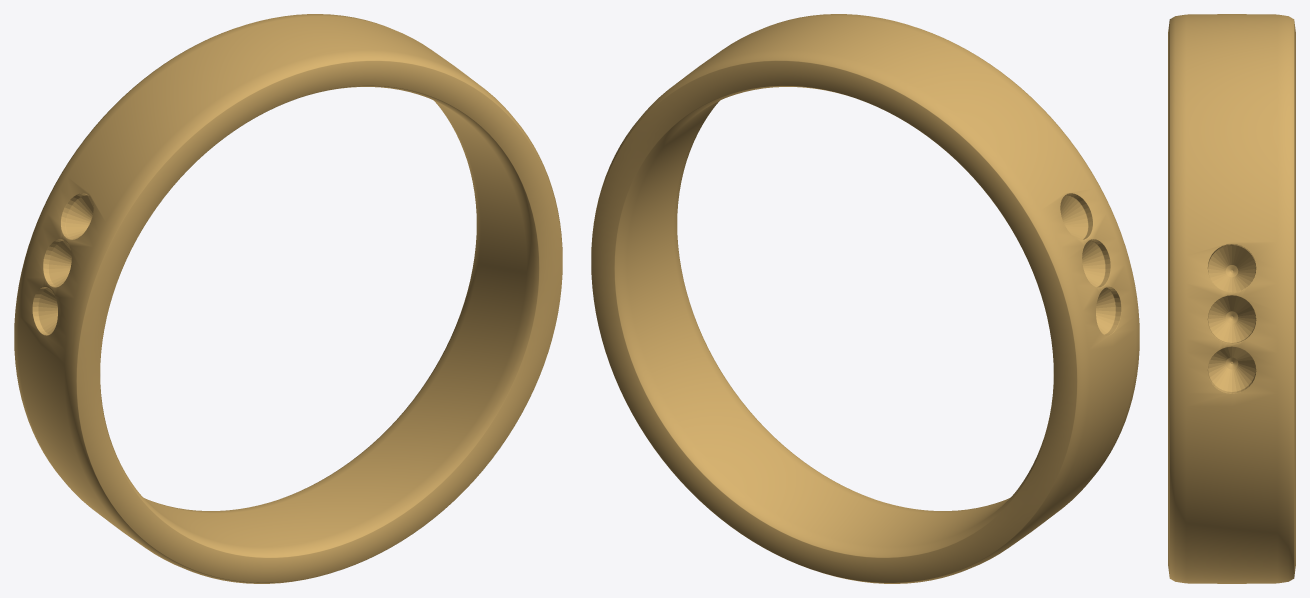
The model's file is wide-flush-accents-wide.glb.
The picture shows the model from 3 angles, left to right: view 1: azimuth 30°, elevation 25°; view 2: azimuth 150°, elevation 25°; view 3: azimuth 270°, elevation 25°; orthographic projection.
Parts seen in each view (by area): view 1: Band; view 2: Band; view 3: Band.
Part boxes in pixels (x1,y1,x2,y2): Band: (14,14,562,583); Band: (591,14,1139,583); Band: (1168,14,1295,583).
Bounding box in the file's own units: 19.6 × 19.6 × 4.4.
